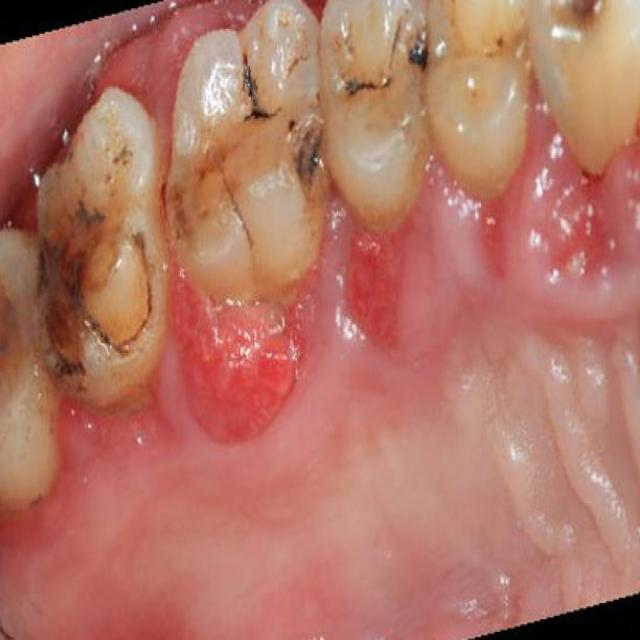caries: (28, 215, 150, 387), (182, 139, 260, 232), (274, 107, 334, 212), (234, 46, 290, 136), (394, 10, 444, 103), (330, 49, 392, 124), (537, 0, 620, 51)
